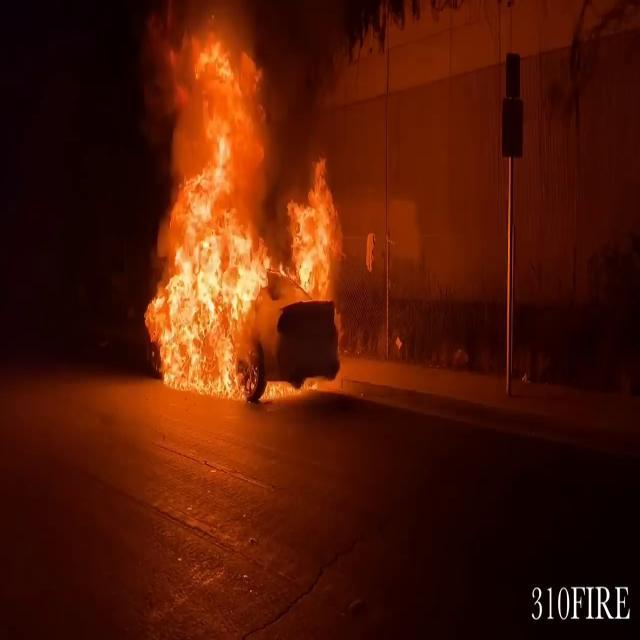Fire: (127, 22, 351, 400)
